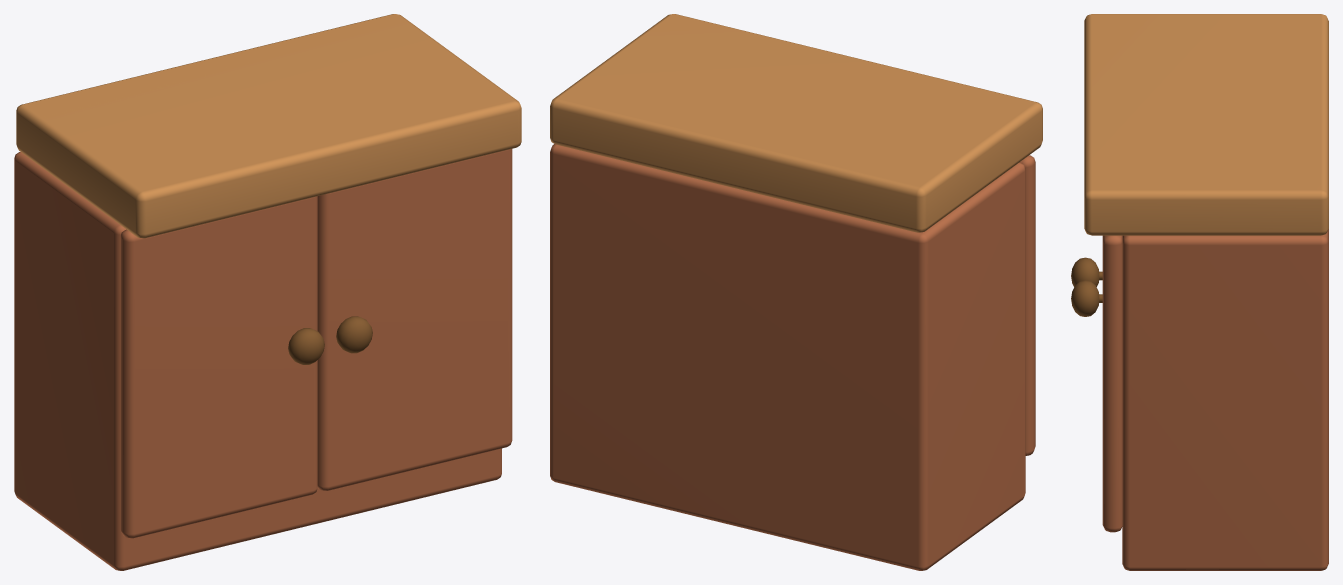
File: SM_cabinet_double_door.fbx
The picture shows the model from 3 angles, left to right: view 1: azimuth 30°, elevation 25°; view 2: azimuth 150°, elevation 25°; view 3: azimuth 270°, elevation 25°; orthographic projection. The views are drawn at different scales.
Parts seen in each view (by area): view 1: SM_cabinet_double_door; view 2: SM_cabinet_double_door; view 3: SM_cabinet_double_door.
Boxes of the visible parts, box(x1,y1,x2,y2) form: SM_cabinet_double_door: box(14, 14, 521, 570); SM_cabinet_double_door: box(550, 14, 1042, 570); SM_cabinet_double_door: box(1071, 14, 1328, 570).
Size of the model in its own units: 113 by 109 by 67.15.
Materials: 1 (1 with a texture image).
